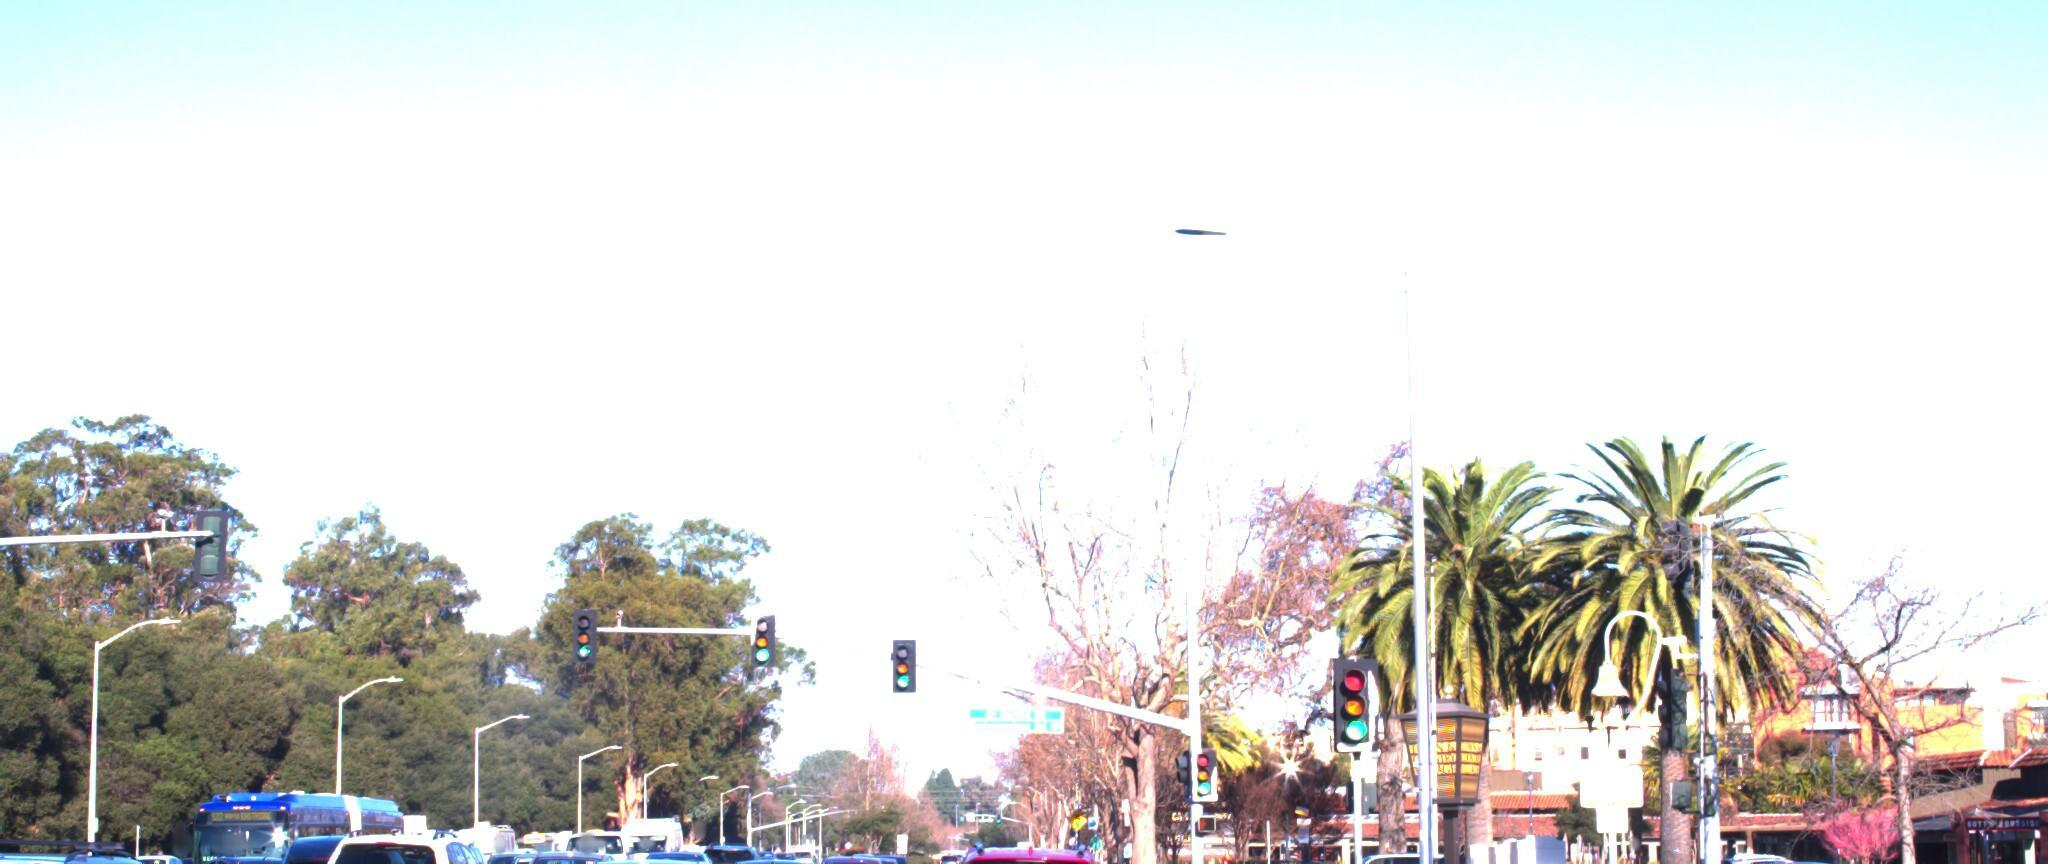bicycle: (1198, 827, 1263, 864)
car: (0, 559, 168, 864), (0, 821, 269, 864), (311, 808, 515, 864), (1617, 834, 1913, 864), (926, 820, 1112, 864), (492, 812, 620, 864), (152, 848, 563, 864), (700, 820, 829, 864), (556, 837, 759, 864), (1509, 842, 1745, 864), (811, 850, 1169, 864), (1866, 844, 2048, 864), (808, 827, 896, 864)
